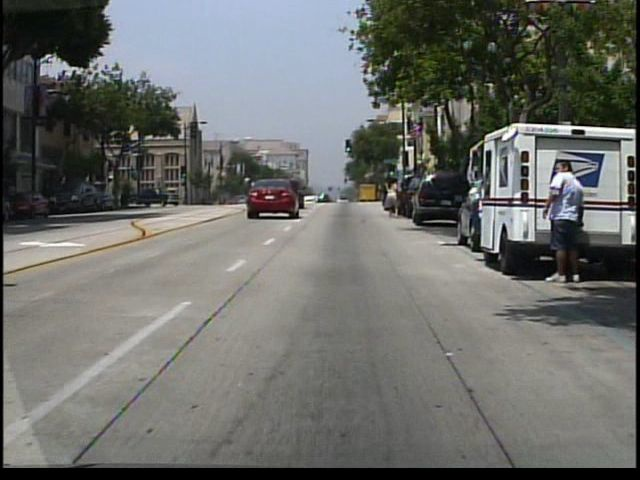person: (542, 161, 589, 287), (383, 175, 404, 220)
